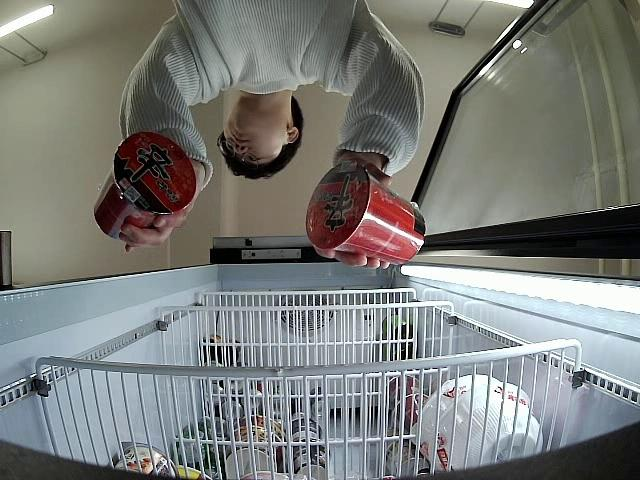00_hand: (304, 156, 394, 270), (122, 197, 198, 255)
02_shinRamen_S: (92, 130, 195, 242), (305, 164, 425, 259)
